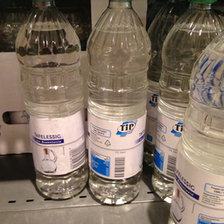vinegar: (14, 1, 87, 200), (83, 1, 149, 207)
